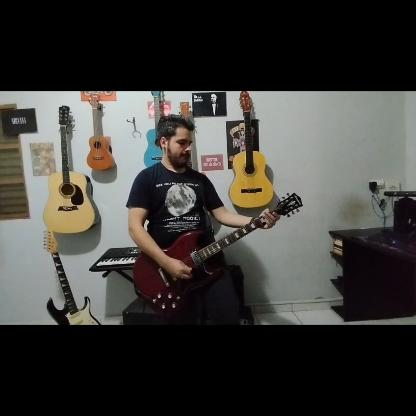acousticguitar: (44, 104, 96, 234), (229, 92, 273, 210), (144, 92, 166, 168)
guitar: (132, 192, 304, 320), (43, 226, 102, 326)
